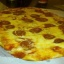pizza: (1, 9, 64, 59)
